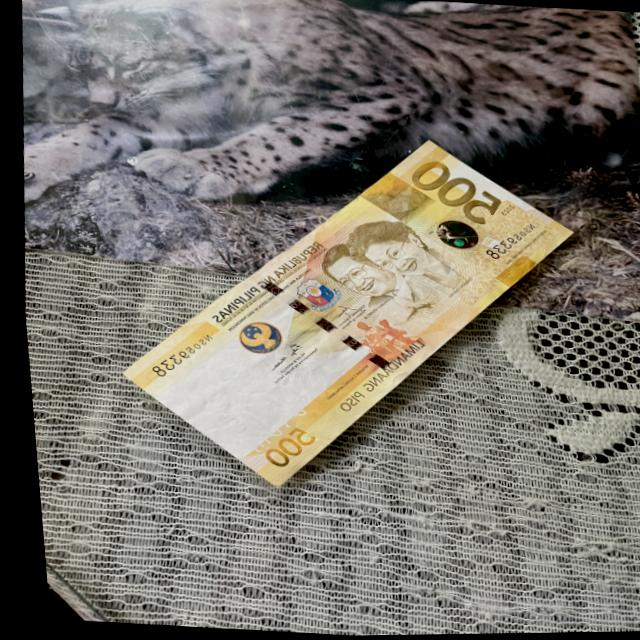concealed_value: (353, 165, 432, 224)
optically_variable_device: (416, 208, 497, 260)
see_through_mark: (227, 390, 310, 468)
value: (402, 156, 499, 228)
